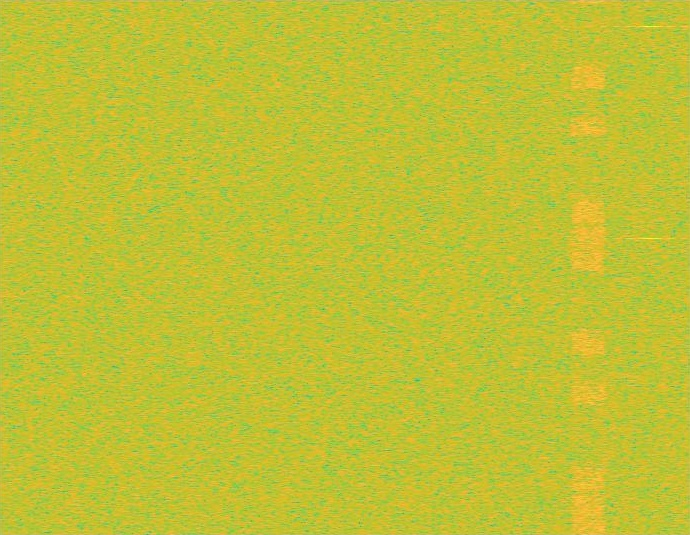LTE: (571, 0, 606, 534)
Radar: (644, 0, 658, 534)
